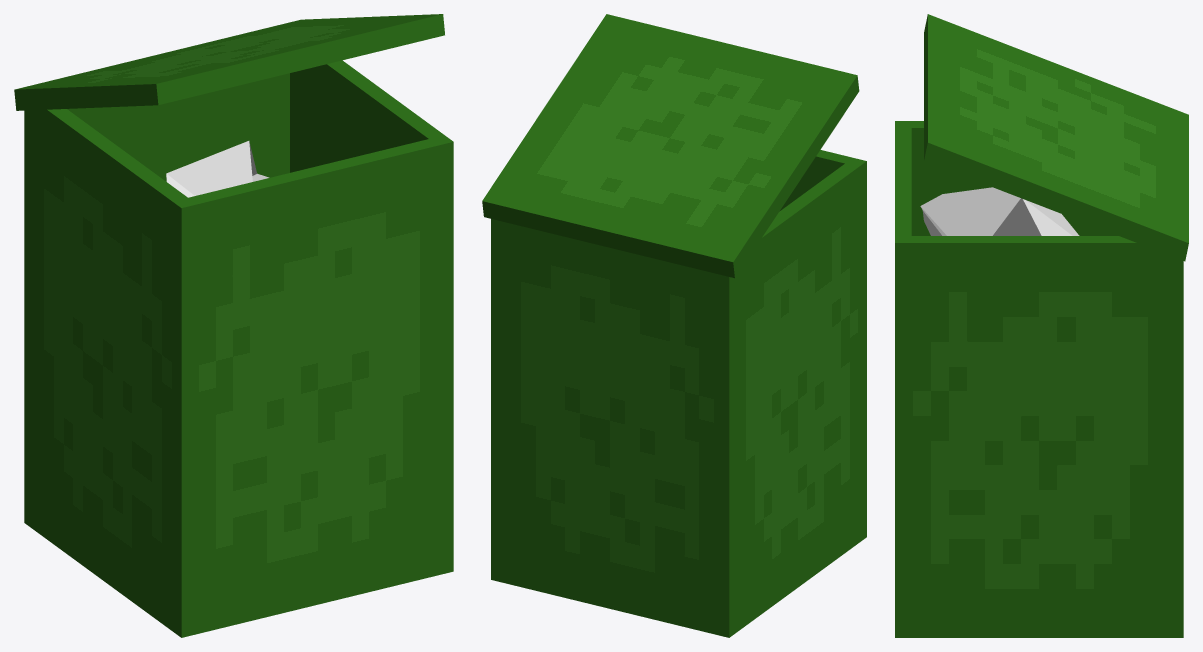
Rendered from TrashCan.glb.
3 renders of one model, left to right at view 1: azimuth 30°, elevation 25°; view 2: azimuth 150°, elevation 25°; view 3: azimuth 270°, elevation 25°, orthographic. The views are drawn at different scales.
Visible parts, largest first — view 1: Cube; view 2: Cube; view 3: Cube.
Part boxes in pixels (x1=…): Cube: x1=14, y1=14, x2=453, y2=637; Cube: x1=482, y1=14, x2=866, y2=637; Cube: x1=895, y1=14, x2=1188, y2=637.
Size of the model in its own units: 1.4 by 2.53 by 1.35.
Materials: 2 (1 with a texture image).
